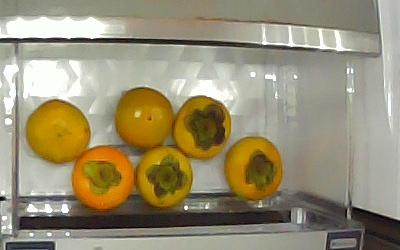persimmon: (25, 98, 91, 165), (70, 145, 136, 210), (175, 95, 233, 162), (114, 86, 175, 149), (136, 145, 196, 209), (226, 137, 284, 202)
